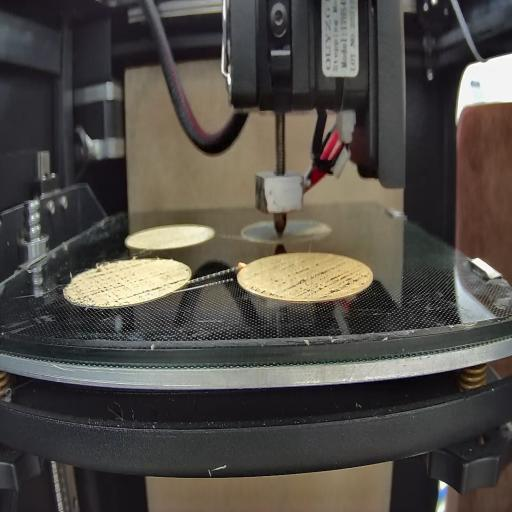under_extrusion: (248, 260, 370, 302), (70, 263, 126, 303), (130, 279, 190, 296)
